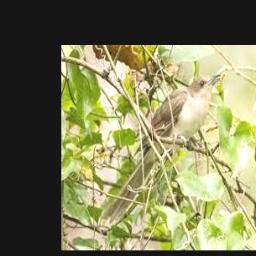Cuckoo: (101, 73, 220, 225)
